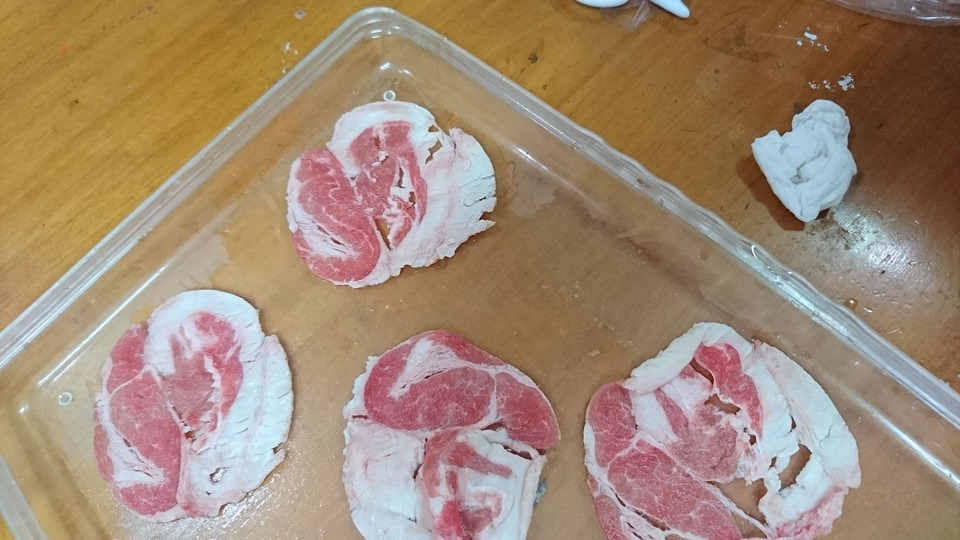restructured meat: (577, 318, 862, 540), (90, 281, 298, 528), (338, 326, 562, 540), (285, 104, 510, 288)
